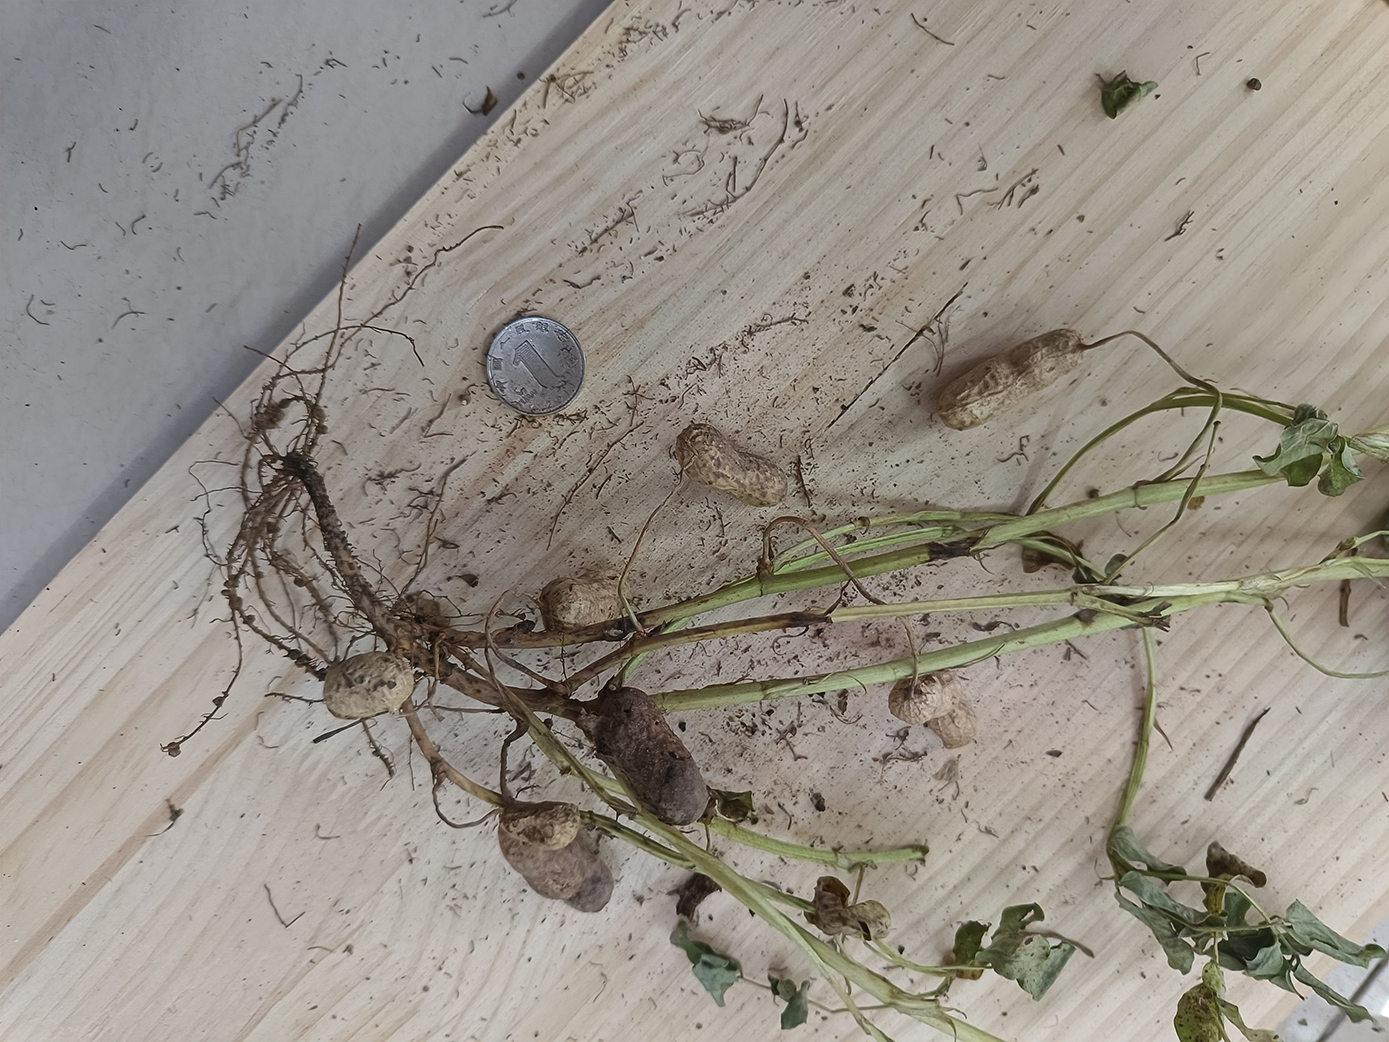h: (936, 329, 1086, 430), (675, 426, 787, 507), (887, 671, 979, 749), (323, 651, 413, 720), (540, 572, 632, 629), (500, 801, 580, 850)
l: (592, 688, 707, 822), (498, 835, 616, 914)
